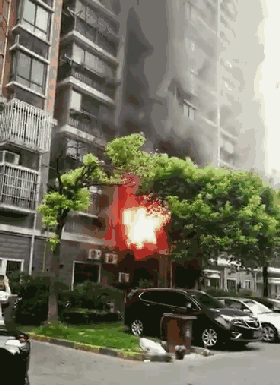fire: (112, 190, 183, 266)
smoke: (126, 4, 267, 159)
